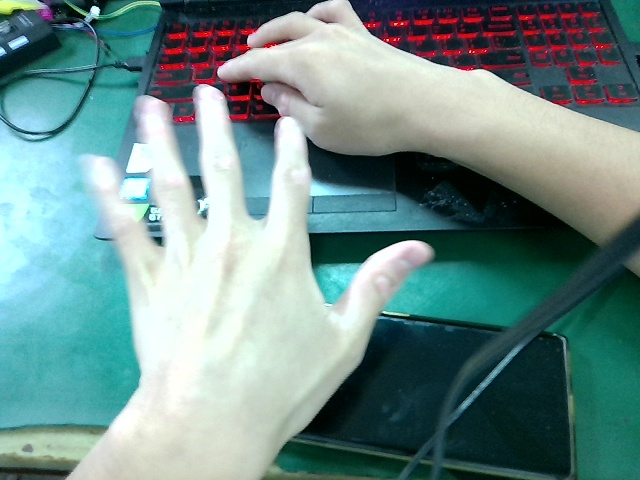paper: (79, 79, 441, 471)
